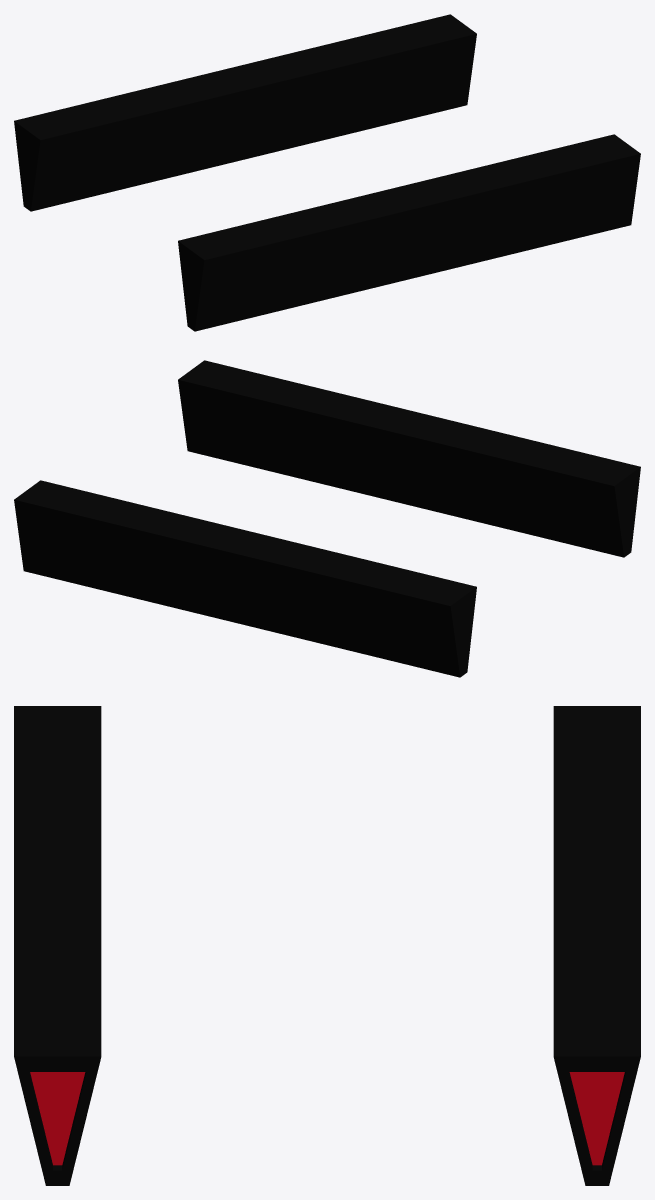
Rendered from gun_Shipe.fbx.
3 views of the same model, one above another, from view 1: azimuth 30°, elevation 25°; view 2: azimuth 150°, elevation 25°; view 3: azimuth 270°, elevation 25° (orthographic). The views are drawn at different scales.
Visible parts, largest first — view 1: Cube.009; view 2: Cube.009; view 3: Cube.009.
Part boxes in pixels (x1=…): Cube.009: x1=14, y1=14, x2=640, y2=331; Cube.009: x1=14, y1=360, x2=640, y2=677; Cube.009: x1=14, y1=706, x2=640, y2=1185.
Bounding box in the file's own units: 140 × 24.11 × 106.
